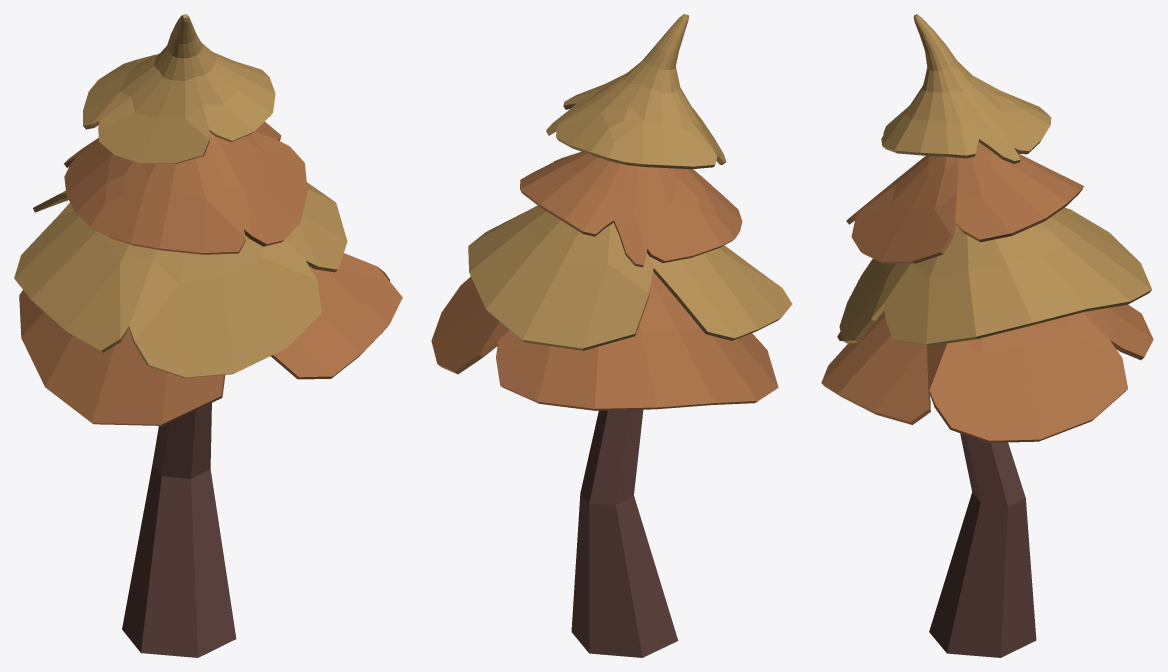
The model's file is pine_autumn5.glb.
3 views of the same model, side by side, from view 1: azimuth 30°, elevation 25°; view 2: azimuth 150°, elevation 25°; view 3: azimuth 270°, elevation 25° (orthographic). The views are drawn at different scales.
Parts seen in each view (by area): view 1: PineTree_Autumn_5; view 2: PineTree_Autumn_5; view 3: PineTree_Autumn_5.
Boxes of the visible parts, x1,y1,x2,y2 form: PineTree_Autumn_5: [14, 14, 402, 657]; PineTree_Autumn_5: [431, 14, 792, 657]; PineTree_Autumn_5: [821, 14, 1153, 657].
Size of the model in its own units: 1.47 by 2.69 by 1.34.
